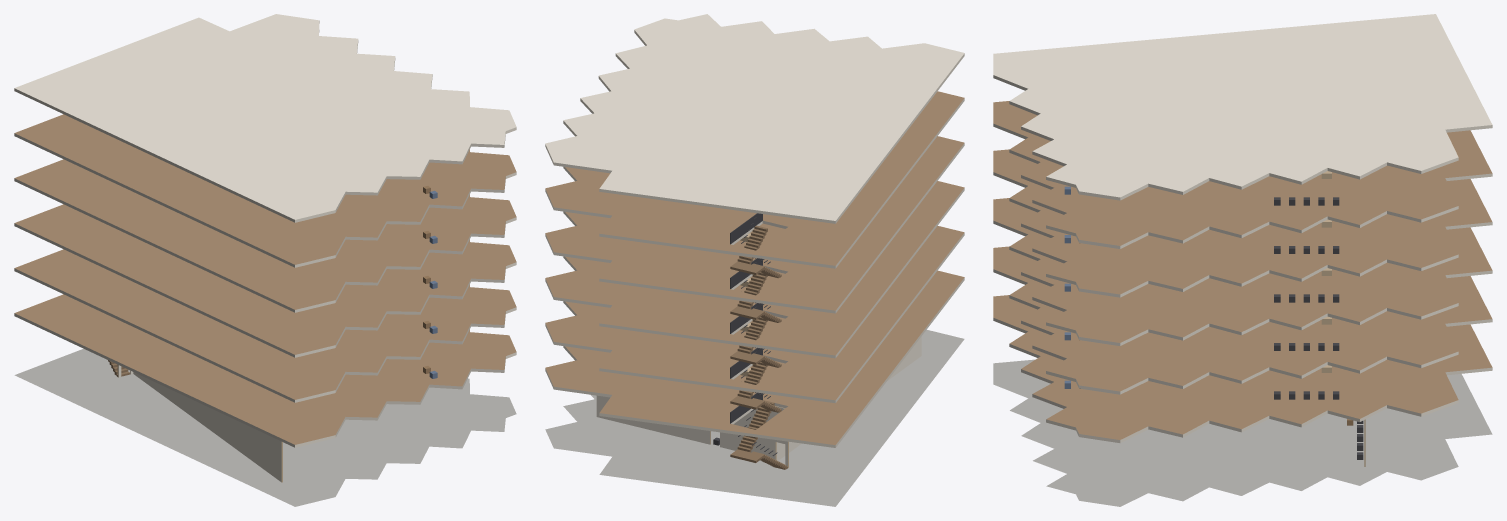
File: interior.glb
The picture shows the model from 3 angles, left to right: view 1: azimuth 30°, elevation 25°; view 2: azimuth 150°, elevation 25°; view 3: azimuth 270°, elevation 25°; orthographic projection. The views are drawn at different scales.
Parts seen in each view (by area): view 1: slabs, partitions; view 2: slabs, stair, partitions; view 3: slabs.
Part boxes in pixels (x1=…): slabs: x1=14, y1=14, x2=516, y2=506; partitions: x1=117, y1=365, x2=282, y2=482; slabs: x1=545, y1=14, x2=964, y2=506; stair: x1=730, y1=213, x2=787, y2=469; partitions: x1=596, y1=336, x2=921, y2=467; slabs: x1=993, y1=14, x2=1492, y2=506.
Size of the model in its own units: 32.44 by 25.54 by 37.3.
